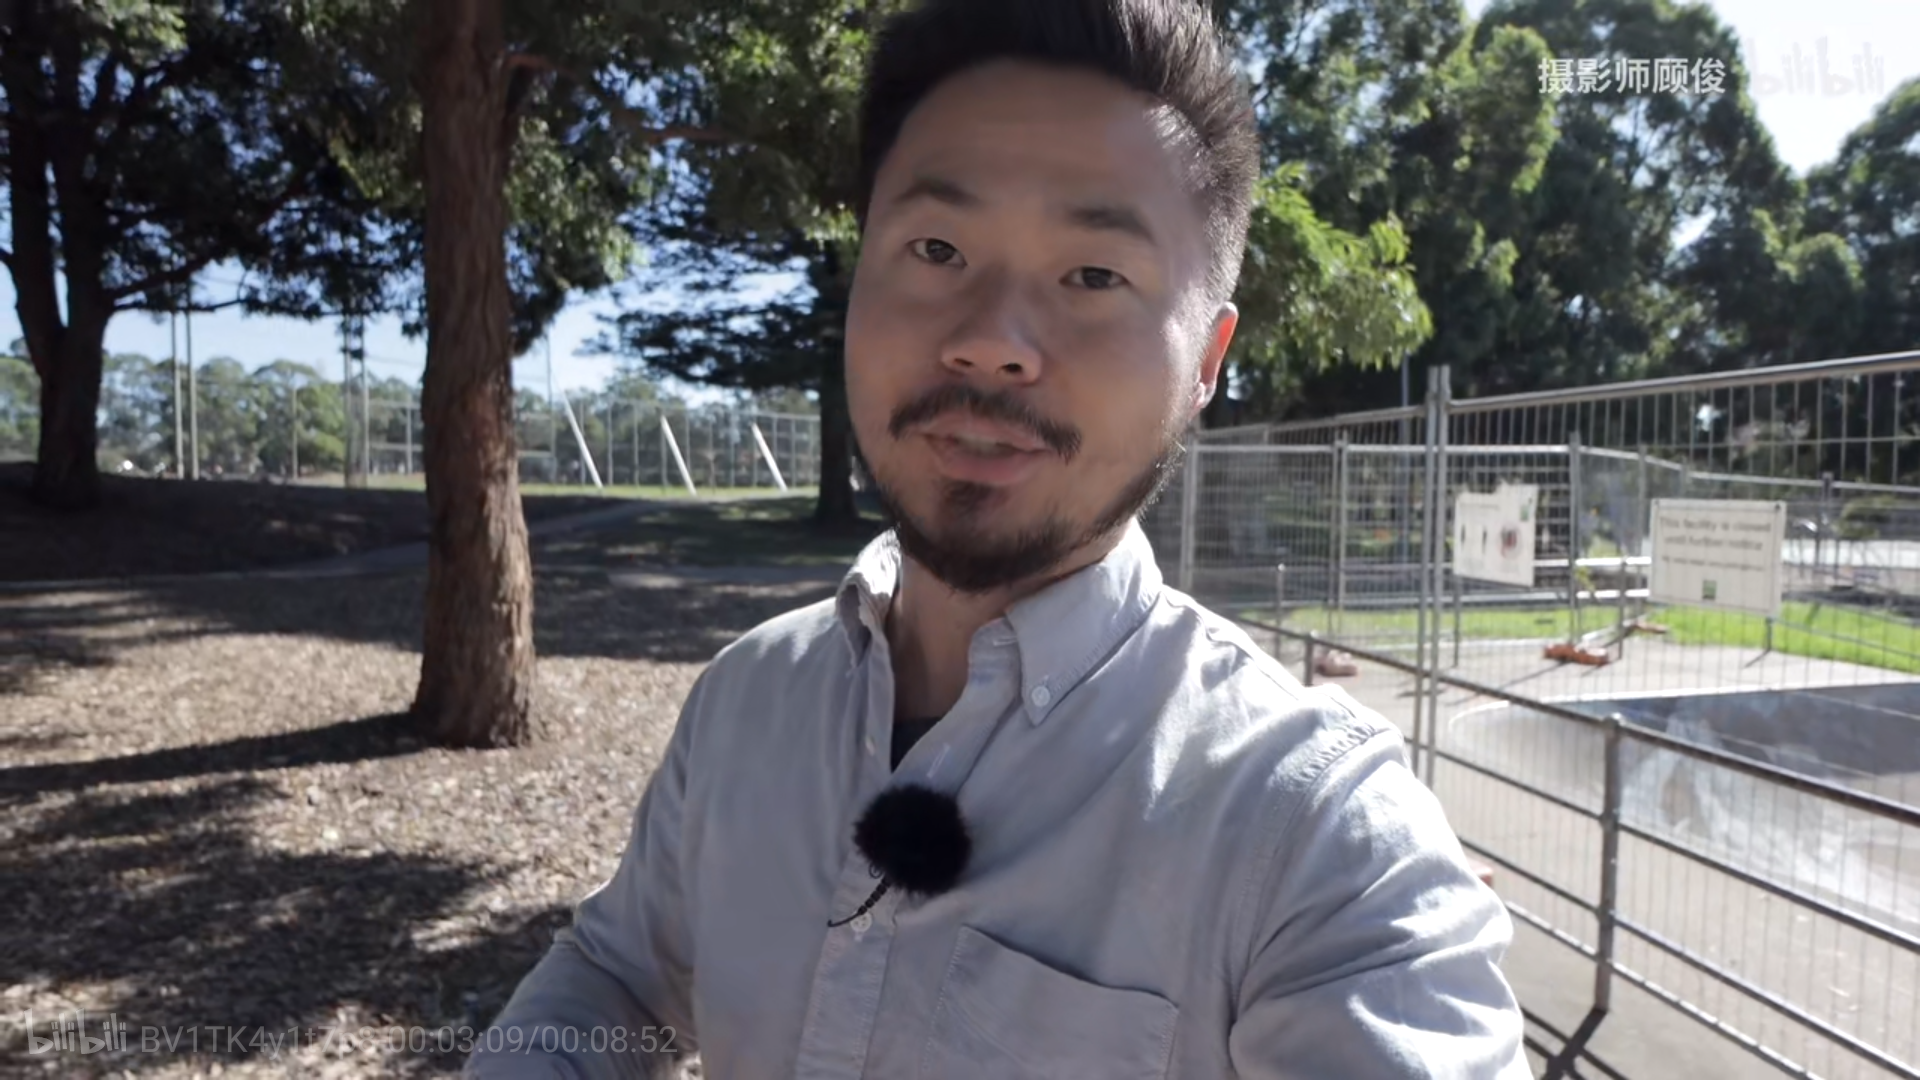noWear: (835, 150, 1185, 591)
